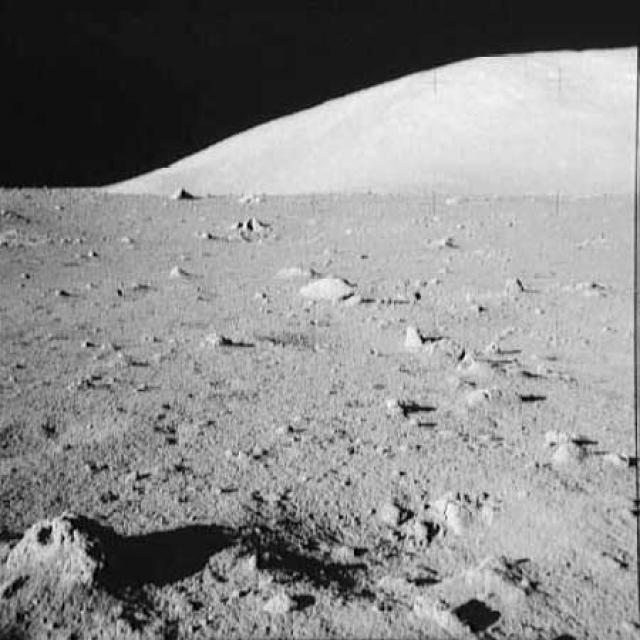rock: (192, 536, 306, 621), (2, 507, 110, 596), (541, 437, 594, 468), (298, 273, 352, 301), (456, 345, 494, 376), (568, 278, 607, 304), (502, 271, 533, 298), (163, 182, 195, 201), (400, 326, 428, 347), (431, 233, 458, 252)
